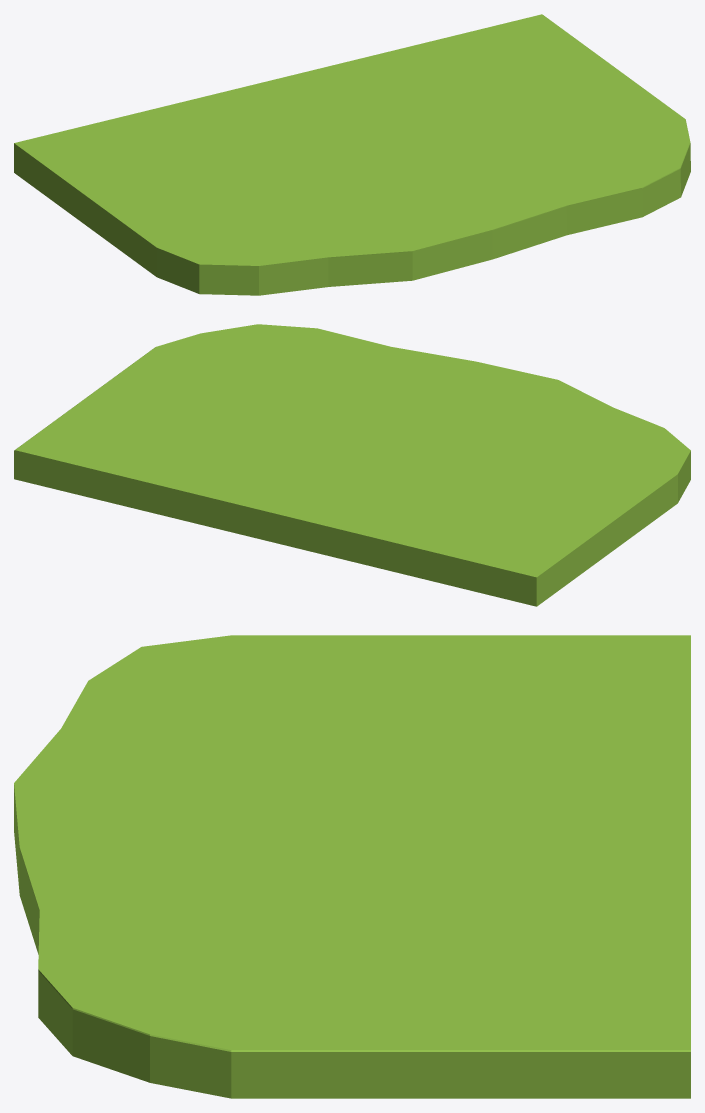
File: gnd_end_green_02.fbx
3 views of the same model, one above another, from view 1: azimuth 30°, elevation 25°; view 2: azimuth 150°, elevation 25°; view 3: azimuth 270°, elevation 25° (orthographic). The views are drawn at different scales.
Visible parts, largest first — view 1: gnd_end_green_02; view 2: gnd_end_green_02; view 3: gnd_end_green_02.
Boxes of the visible parts, <box> form: gnd_end_green_02: <box>14,14,690,295</box>; gnd_end_green_02: <box>14,324,690,606</box>; gnd_end_green_02: <box>14,635,690,1098</box>.
Bounding box in the file's own units: 7648 × 410 × 5266.
